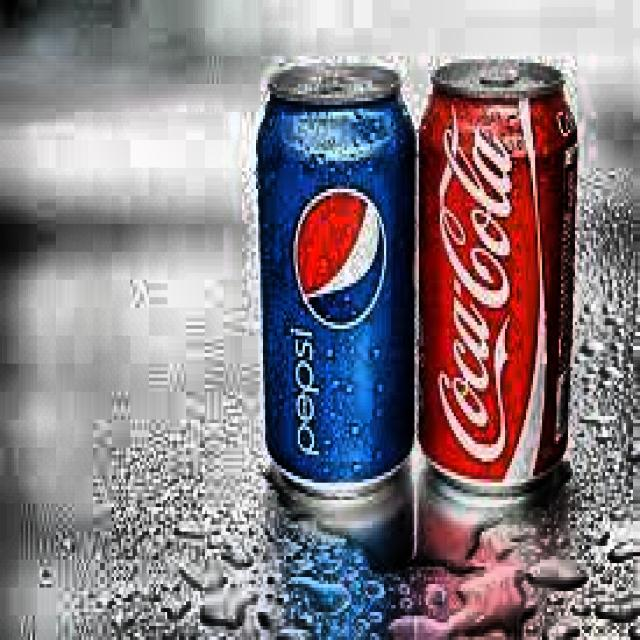can: (416, 52, 584, 508), (253, 52, 419, 510)
